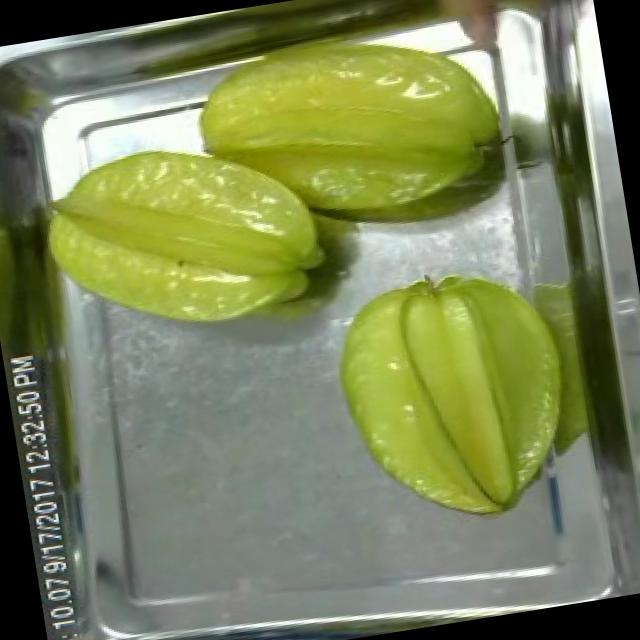fruit: (179, 0, 523, 258), (317, 246, 599, 549), (18, 115, 344, 362)
